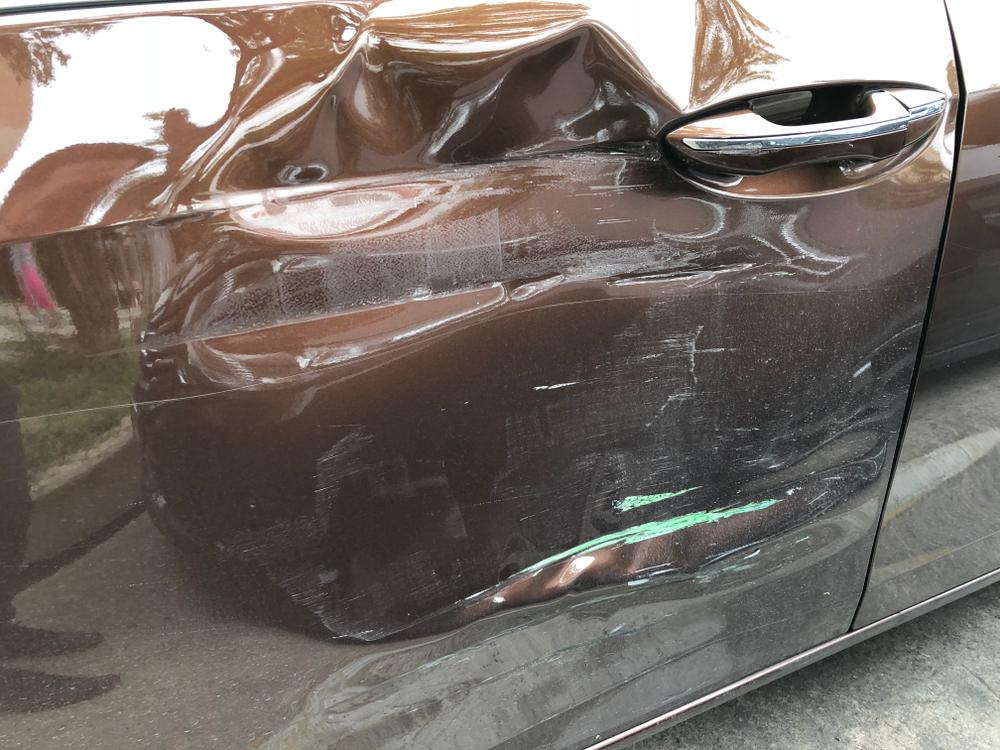dent: (178, 26, 808, 390), (486, 505, 798, 605)
scratch: (207, 279, 890, 645)
